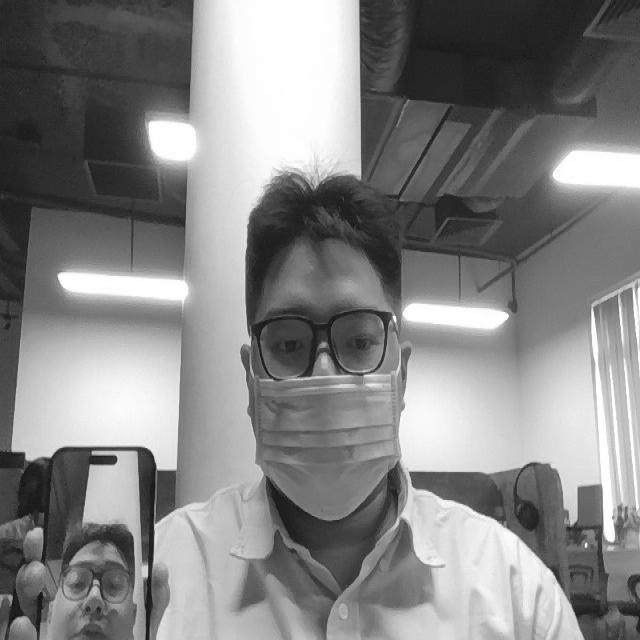fake: (34, 427, 170, 640), (246, 367, 403, 525), (50, 518, 139, 640)
real: (231, 166, 419, 530), (253, 314, 409, 374)
